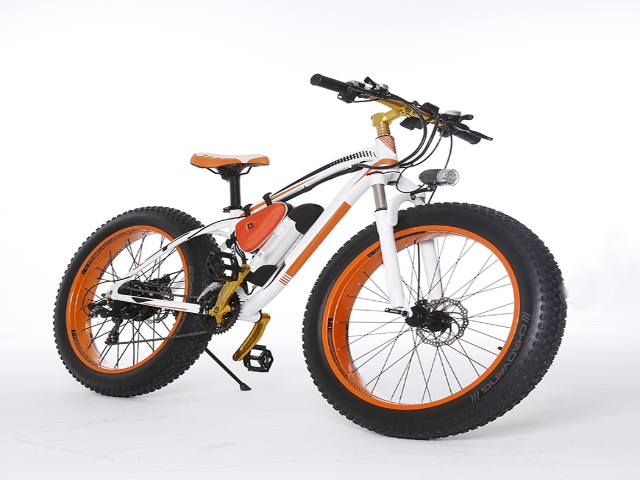bike: (40, 65, 577, 456)
